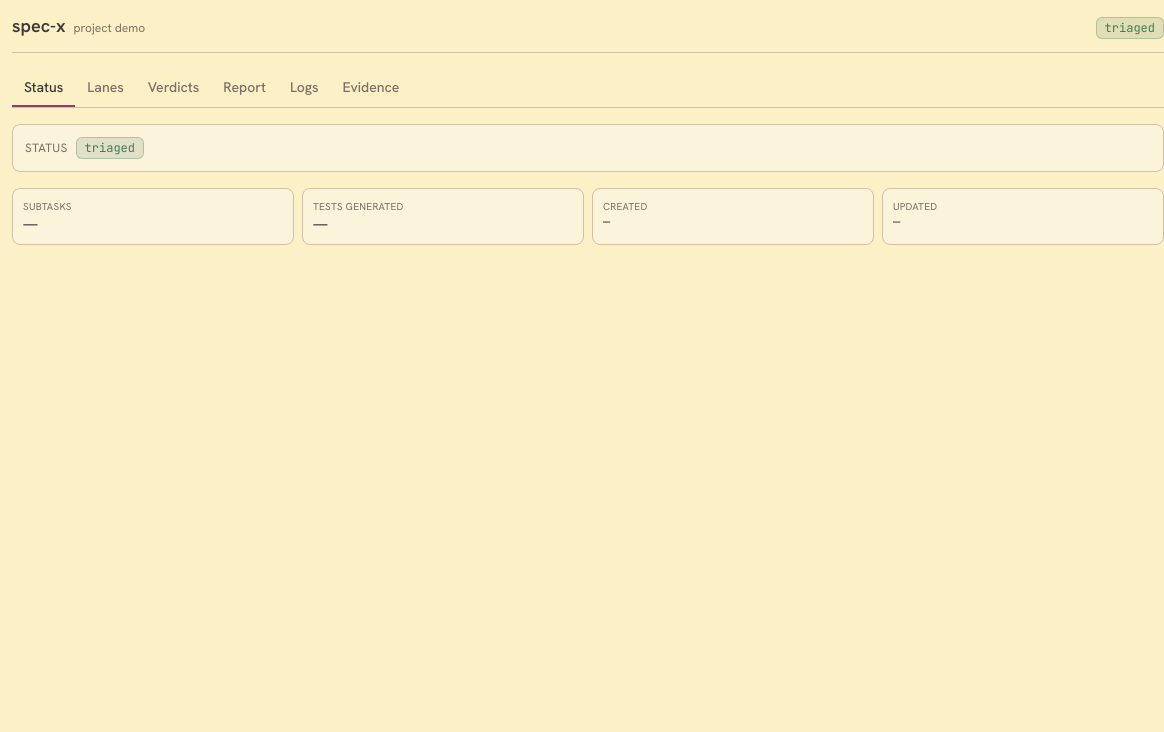
Scenario: <PFactoryTaskDetail> verdicts tab › fetches verdicts lazily on tab open
Click the tab with test id "tab-verdicts" at (174, 88), box [136,69,211,107]
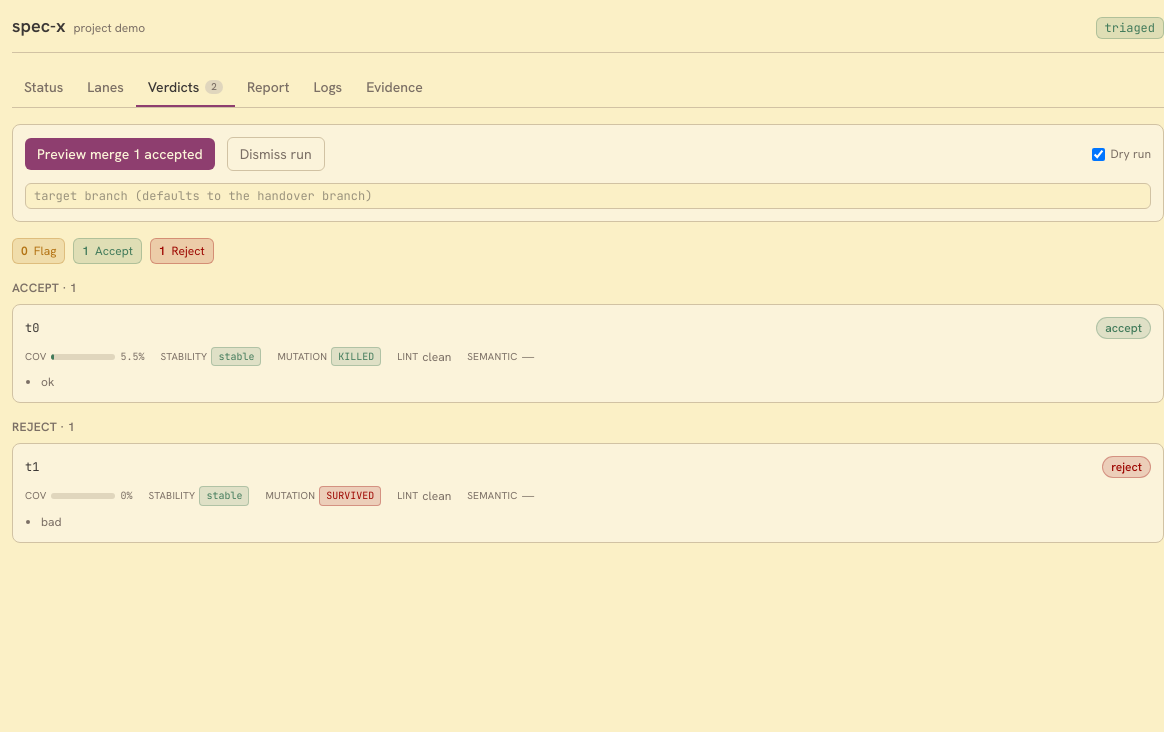
Check: the element with test id "verdict-table" is shown, box [12,238,1163,543]
Check: the element with test id "verdict-row-t0" is shown, box [12,304,1163,403]
Check: the element with test id "verdict-row-t1" is shown, box [12,443,1163,543]
